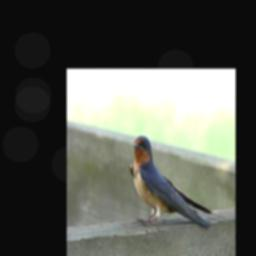Swallow: (129, 133, 227, 231)
